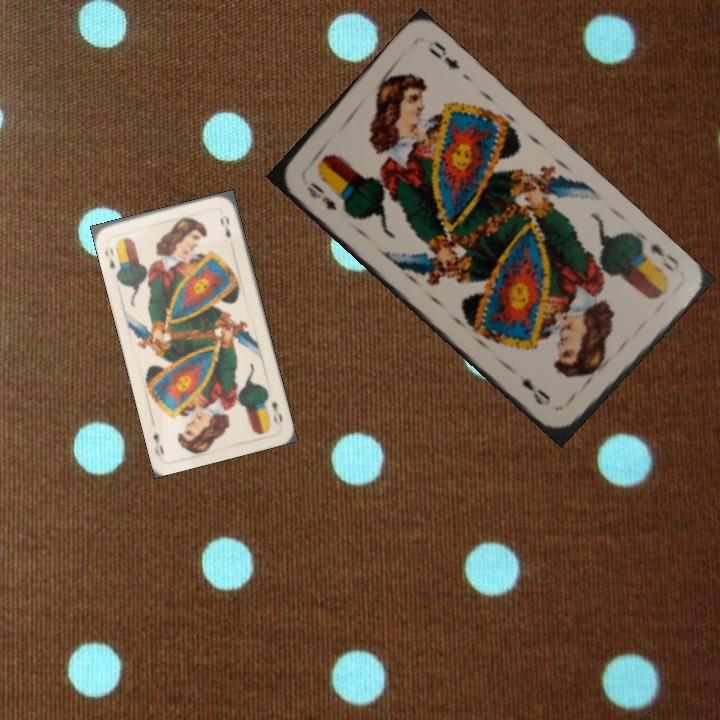EO: (302, 177, 339, 213), (646, 239, 682, 275), (267, 397, 285, 428), (100, 243, 117, 272)
